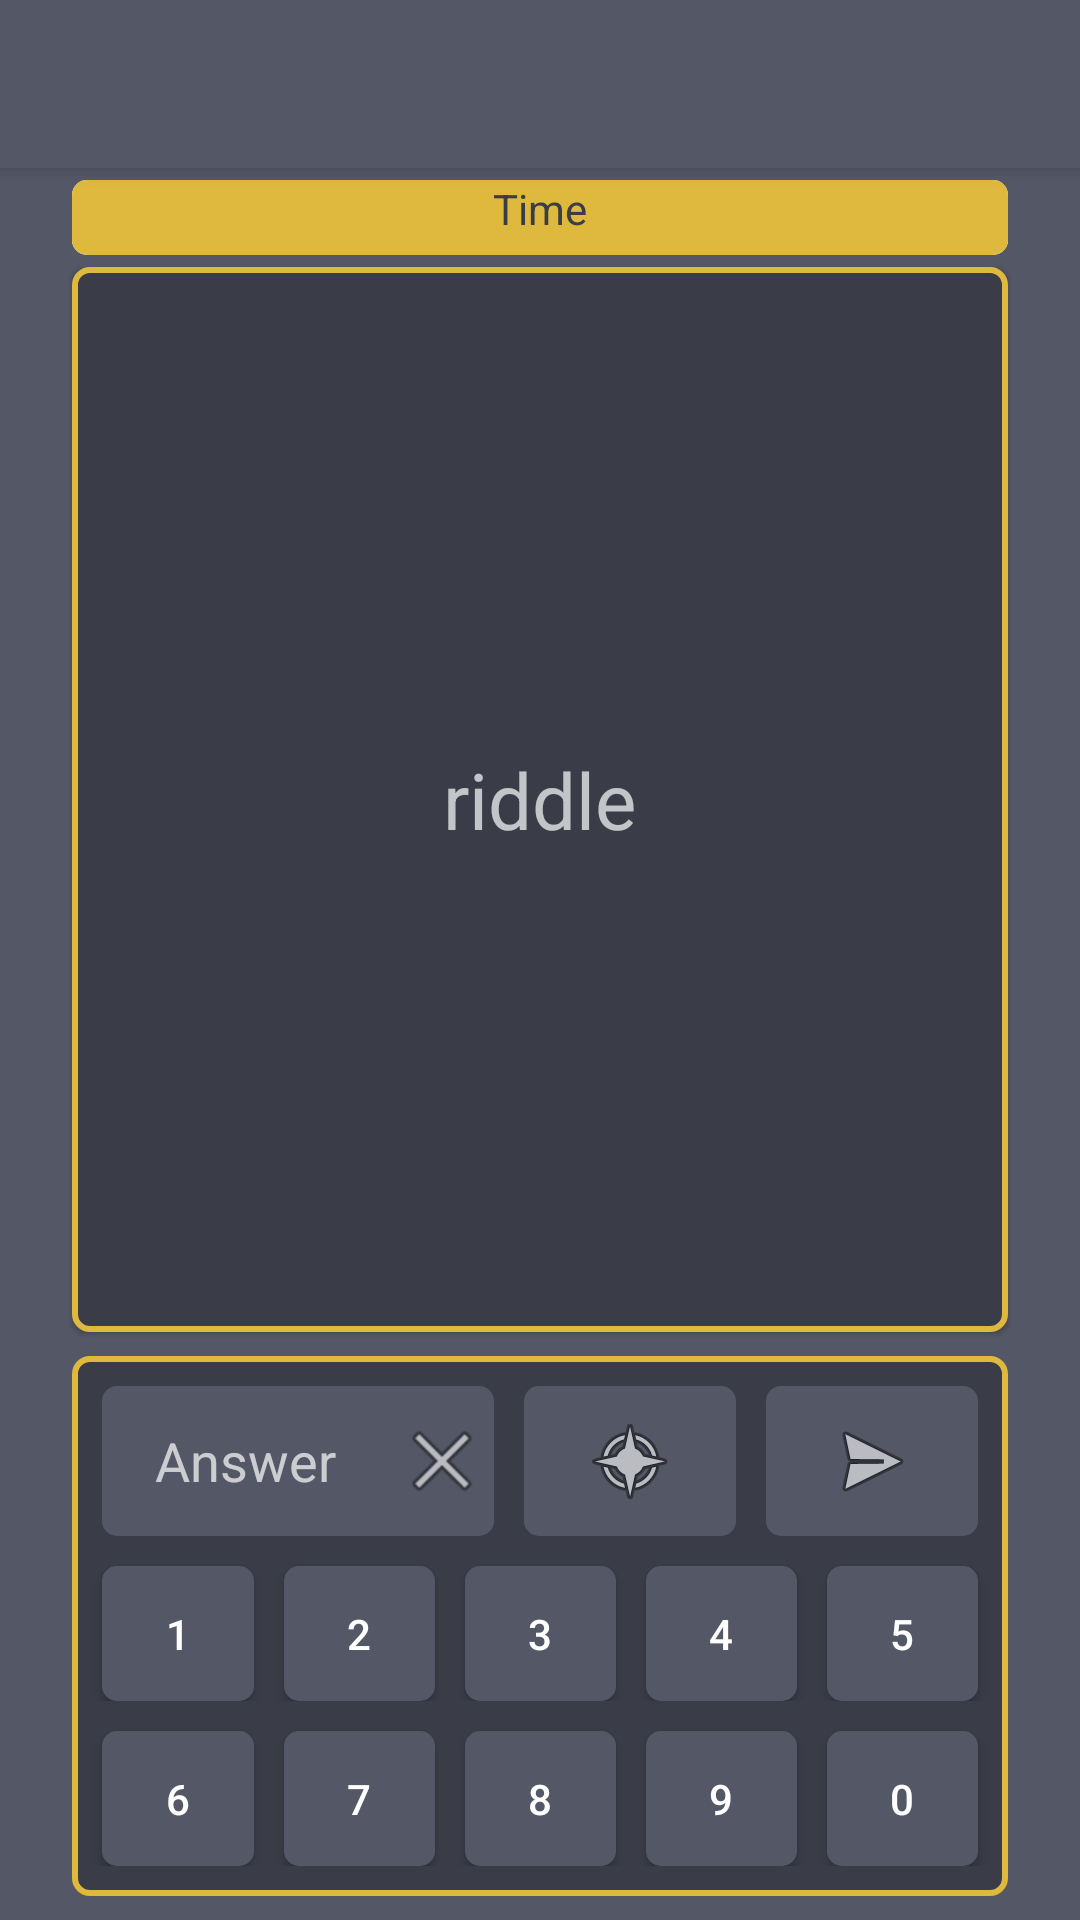

Screen size 1080 × 1920. Icon name, then its box in pixels as (x1, y1, x2, y2):
compass: (524, 1386, 736, 1536)
RESET: (413, 1432, 471, 1490)
send: (766, 1386, 978, 1536)
